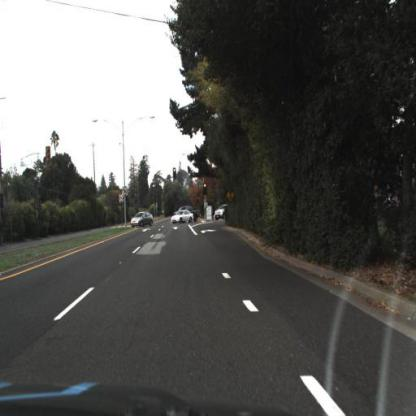car: (131, 209, 154, 231), (171, 210, 195, 227), (214, 199, 228, 226)
trafficLight-Red: (202, 180, 211, 198), (172, 166, 179, 184)
